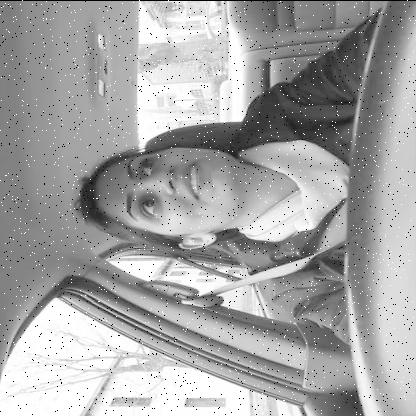seatbelt: (62, 139, 346, 315)
